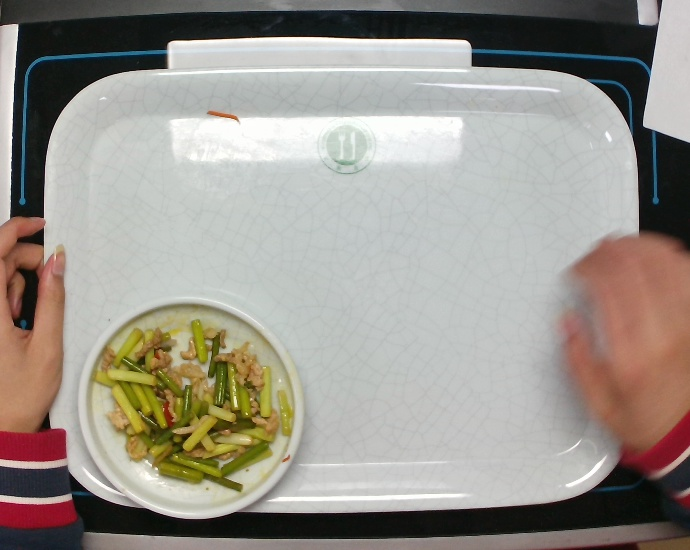JYsf-Xiao_Yuan_Pan: (79, 297, 305, 523)
